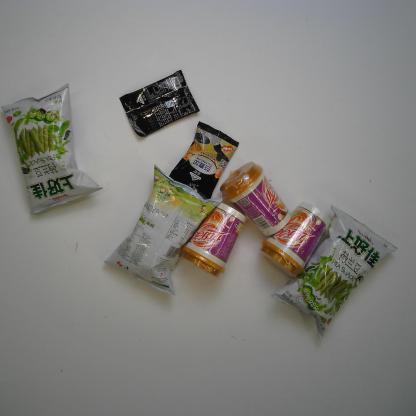Instant Drink: (117, 67, 202, 142), (258, 199, 331, 280), (167, 121, 242, 198), (219, 160, 293, 237), (180, 202, 248, 279)
Puffed Food: (268, 200, 400, 340), (101, 163, 223, 299), (0, 83, 104, 218)
